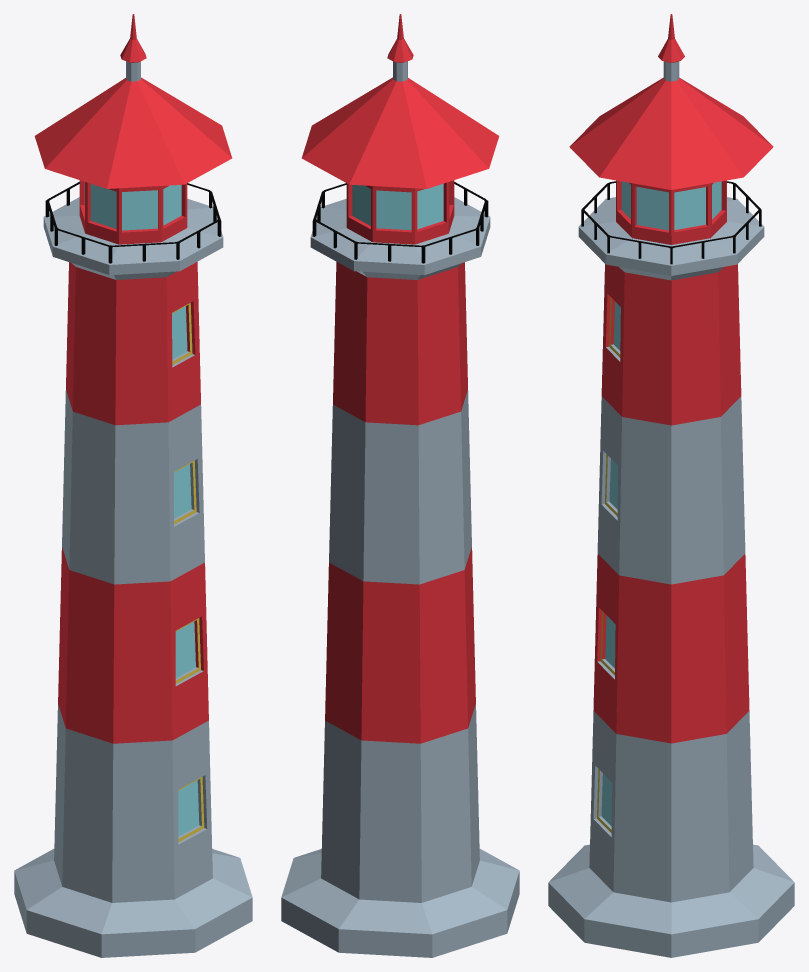
The model's file is lighthouse.fbx.
3 views of the same model, side by side, from view 1: azimuth 30°, elevation 25°; view 2: azimuth 150°, elevation 25°; view 3: azimuth 270°, elevation 25° (orthographic).
Visible parts, largest first — view 1: Cylinder.001; view 2: Cylinder.001; view 3: Cylinder.001.
Part boxes in pixels (left/top/right/bottom): Cylinder.001: left=14, top=14, right=252, bottom=957; Cylinder.001: left=281, top=14, right=519, bottom=957; Cylinder.001: left=548, top=14, right=794, bottom=957.
Size of the model in its own units: 268 by 1070 by 268.
